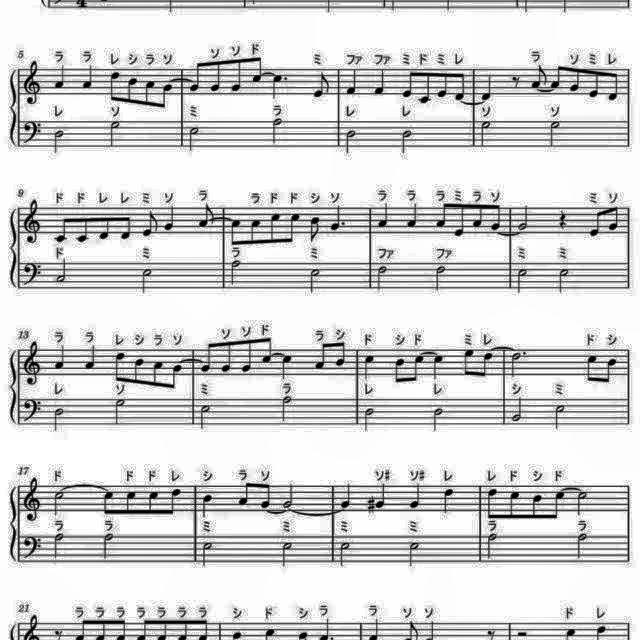Bass-clef: (22, 532, 46, 562), (22, 119, 46, 148), (22, 260, 46, 288), (22, 397, 46, 425)
Diez: (364, 494, 376, 514)
Eighth-note: (311, 72, 333, 102), (583, 350, 601, 386), (196, 202, 218, 230), (140, 209, 160, 239), (218, 339, 234, 376), (552, 488, 568, 524), (268, 212, 284, 248), (208, 60, 224, 96), (450, 201, 466, 237), (168, 360, 186, 392), (186, 58, 202, 94), (228, 58, 244, 94), (199, 340, 215, 376), (240, 338, 256, 374), (484, 486, 500, 522), (106, 70, 122, 106), (53, 212, 71, 244), (528, 62, 548, 90), (168, 485, 185, 517), (508, 489, 524, 523), (604, 69, 620, 103), (411, 351, 427, 385), (111, 350, 127, 384), (418, 70, 432, 108), (462, 346, 478, 379), (529, 492, 545, 524), (588, 206, 604, 238), (452, 69, 468, 101), (248, 54, 264, 86), (312, 341, 328, 373), (391, 354, 407, 386), (74, 213, 90, 245), (228, 216, 244, 248), (287, 210, 301, 246), (236, 480, 254, 508), (480, 348, 496, 379), (260, 335, 276, 365), (334, 339, 350, 369), (100, 487, 116, 517), (132, 355, 148, 385), (121, 488, 137, 518), (248, 218, 264, 248), (605, 355, 621, 385), (160, 83, 176, 113), (488, 202, 504, 232), (306, 213, 322, 243), (402, 68, 416, 102), (549, 61, 565, 90), (143, 79, 157, 111), (127, 76, 141, 108), (588, 68, 602, 100), (260, 482, 276, 510), (150, 359, 164, 389), (146, 487, 160, 517), (118, 211, 132, 241), (98, 213, 112, 243), (567, 64, 581, 92), (606, 204, 620, 232), (470, 201, 484, 229), (436, 202, 450, 230), (438, 68, 450, 100)
Eighth-rest: (509, 72, 523, 90)
Half-dot: (506, 347, 530, 378)
Half-note: (278, 539, 296, 569), (278, 395, 296, 425), (406, 539, 424, 569), (199, 539, 217, 569), (572, 487, 590, 517), (107, 118, 123, 150), (516, 200, 532, 232), (198, 402, 215, 432), (54, 258, 72, 286), (572, 534, 590, 562), (342, 128, 360, 156), (478, 120, 494, 150), (280, 481, 296, 511), (552, 402, 568, 432), (52, 486, 68, 516), (138, 267, 154, 297), (400, 128, 416, 158), (52, 530, 68, 560), (548, 120, 564, 150), (112, 397, 128, 427), (338, 541, 354, 571), (432, 263, 448, 293), (556, 266, 572, 296), (484, 531, 500, 561), (509, 396, 526, 424), (98, 534, 115, 562), (270, 119, 286, 148), (430, 406, 446, 434), (376, 264, 392, 292), (52, 128, 68, 156), (186, 124, 202, 152), (52, 406, 68, 434), (306, 268, 322, 296), (360, 406, 376, 434), (227, 260, 241, 290), (514, 267, 528, 295)
Quarter-dot: (269, 72, 291, 100), (327, 202, 345, 234)
Quarter-note: (372, 67, 390, 97), (277, 350, 295, 380), (479, 73, 496, 103), (429, 350, 446, 380), (162, 203, 178, 233), (442, 486, 458, 516), (408, 481, 424, 511), (360, 351, 376, 381), (53, 343, 69, 372), (344, 67, 360, 96), (84, 343, 100, 372), (376, 202, 392, 230), (53, 64, 69, 92), (406, 202, 422, 230), (200, 492, 216, 520), (80, 62, 96, 90), (375, 481, 389, 511), (340, 482, 354, 511)
Quarter-rest: (555, 206, 571, 230)
Treble-clef: (22, 338, 46, 388), (22, 57, 46, 106), (22, 476, 46, 524), (18, 196, 42, 244)
